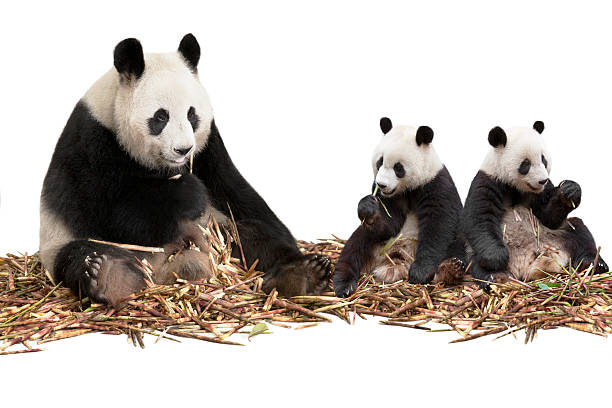panda: (92, 30, 246, 199), (475, 100, 573, 211), (365, 101, 448, 208)
